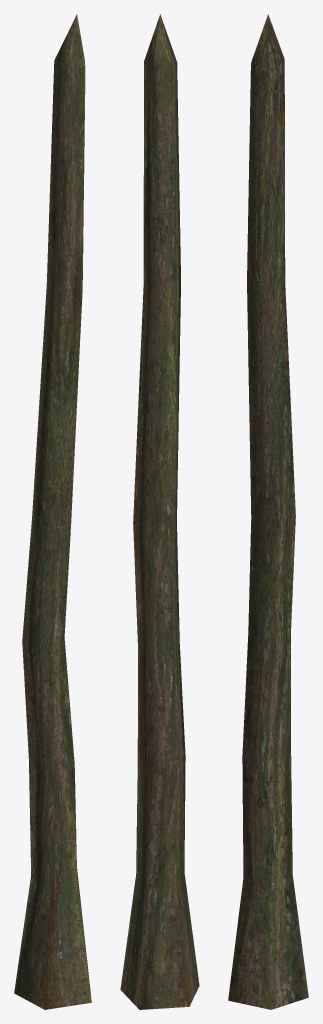
The model's file is phys_Tree7_1.fbx.
The picture shows the model from 3 angles, left to right: view 1: azimuth 90°, elevation 25°; view 2: azimuth 150°, elevation 25°; view 3: azimuth 330°, elevation 25°; orthographic projection. The views are drawn at different scales.
Parts seen in each view (by area): view 1: polySurface20; view 2: polySurface20; view 3: polySurface20.
Part boxes in pixels (x1,y1,x2,y2): polySurface20: (14,14,91,1009); polySurface20: (120,14,199,1009); polySurface20: (228,14,308,1009).
Bounding box in the file's own units: 55.92 × 750 × 54.27.
